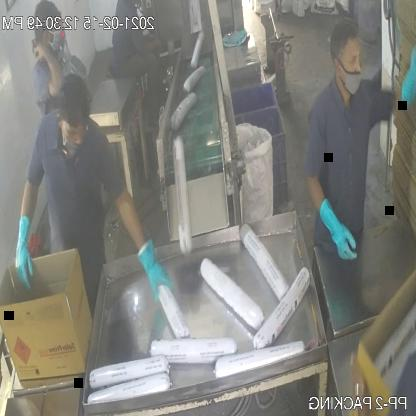glove: (314, 184, 362, 274), (132, 224, 175, 311), (6, 195, 38, 296), (383, 42, 416, 130)
no_glove: (34, 36, 66, 102), (131, 34, 172, 66)
